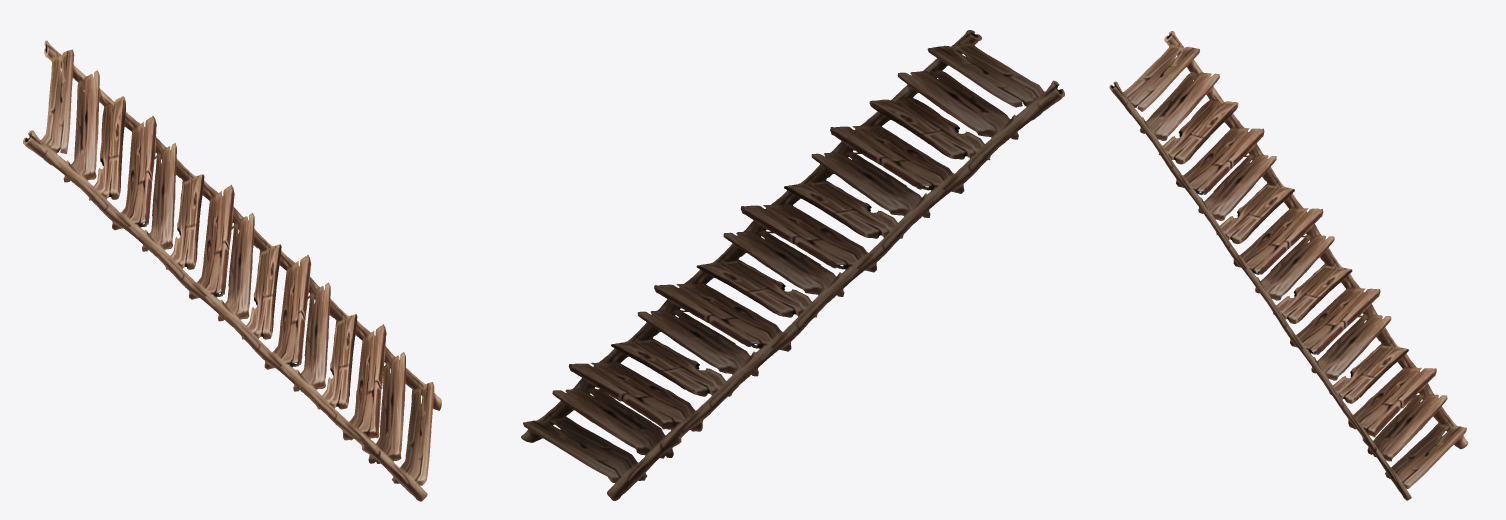
Rendered from Wood Stairs.FBX.
3 renders of one model, left to right at view 1: azimuth 30°, elevation 25°; view 2: azimuth 150°, elevation 25°; view 3: azimuth 330°, elevation 25°, orthographic. The views are drawn at different scales.
Parts seen in each view (by area): view 1: Raise Stairs; view 2: Raise Stairs; view 3: Raise Stairs.
Boxes of the visible parts, x1,y1,x2,y2 form: Raise Stairs: (23, 40, 441, 501); Raise Stairs: (521, 30, 1064, 500); Raise Stairs: (1109, 31, 1468, 500).
Bounding box in the file's own units: 673 × 94.85 × 727.
